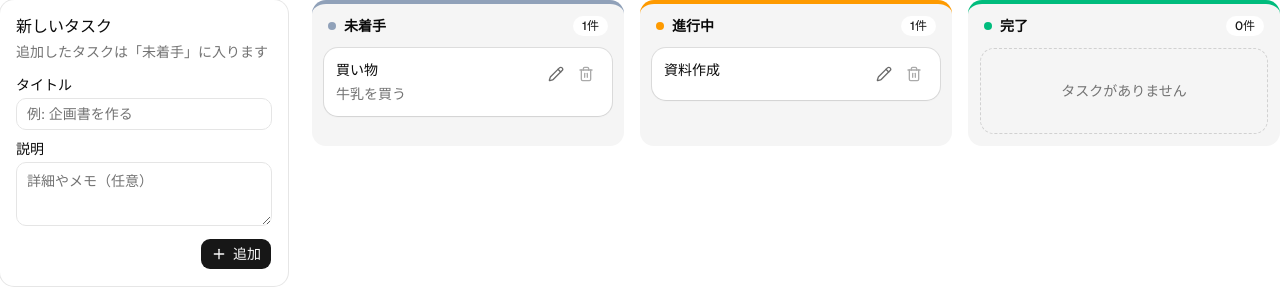
it: 追加 › タイトルを入力して追加すると、すぐに未着手の列に表示され入力欄が空になる
Expected: the heading "買い物" is shown, x1=336 y1=61 x2=378 y2=79
In the field labelled "タイトル": (144, 114) x1=16 y1=98 x2=272 y2=130, type "掃除"
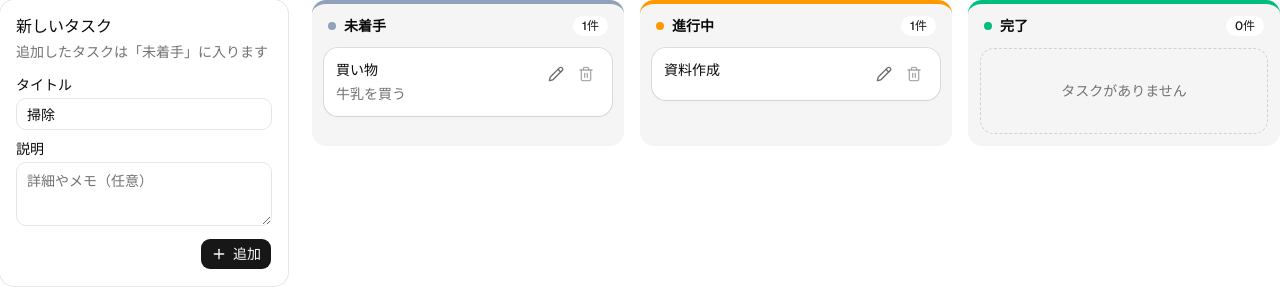
In the text box labelled "説明": (144, 194) x1=16 y1=162 x2=272 y2=226, type "部屋を片付ける"
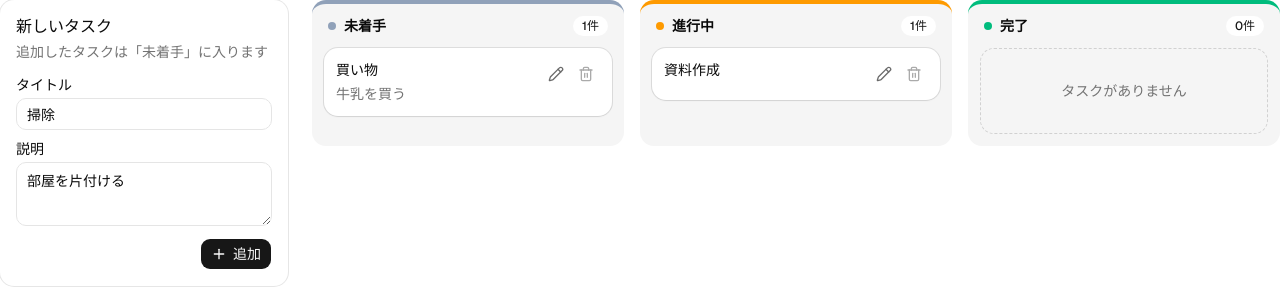
Click the button "追加": (236, 254) x1=200 y1=238 x2=272 y2=270
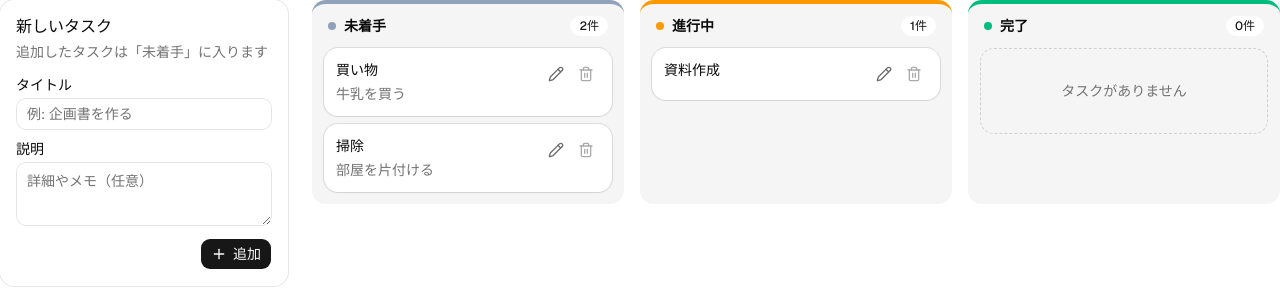
Expected: the heading "掃除" is shown, x1=336 y1=137 x2=364 y2=155
Expected: the text "部屋を片付ける" is shown, x1=336 y1=161 x2=434 y2=179
Expected: the field labelled "タイトル" is empty, x1=16 y1=98 x2=272 y2=130
